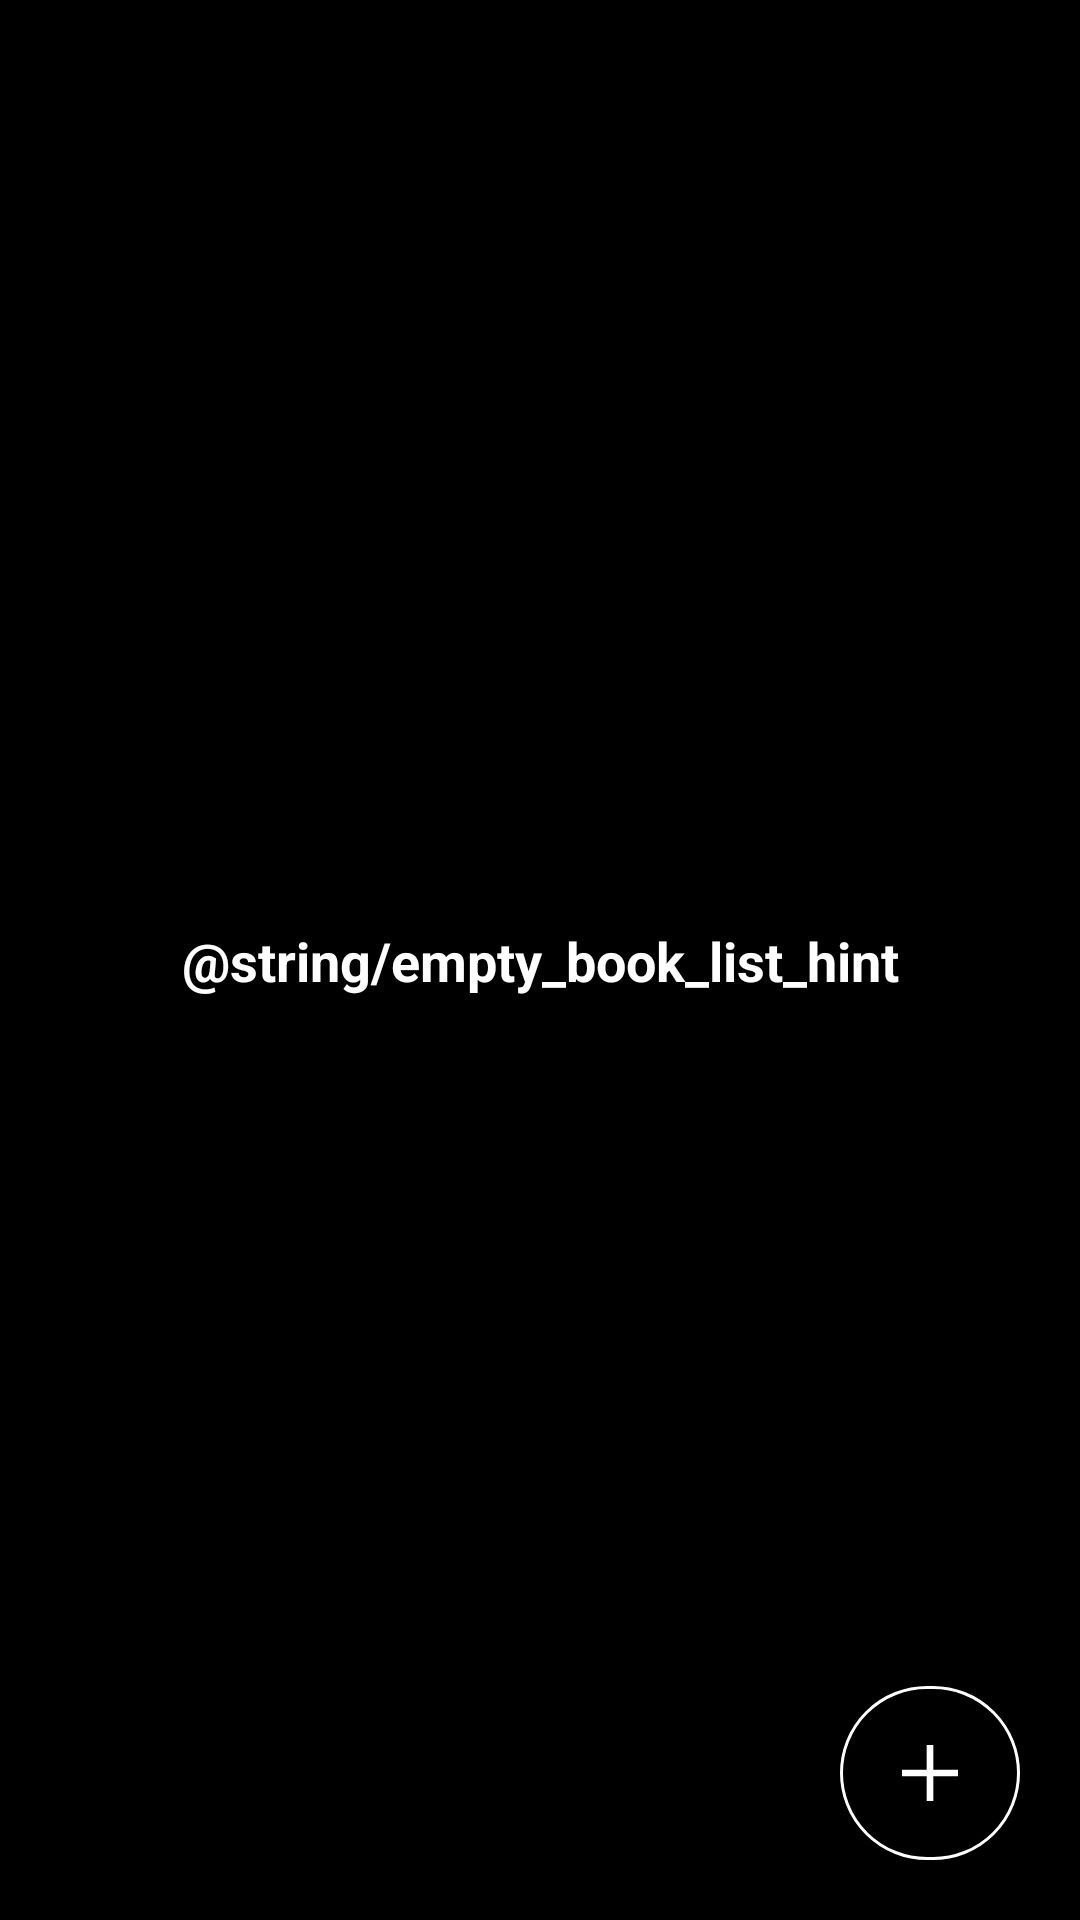

Icons on this 1080w x 1920h Android screen, each with the point to tap as point (x, y):
plus: point (930, 1773)
